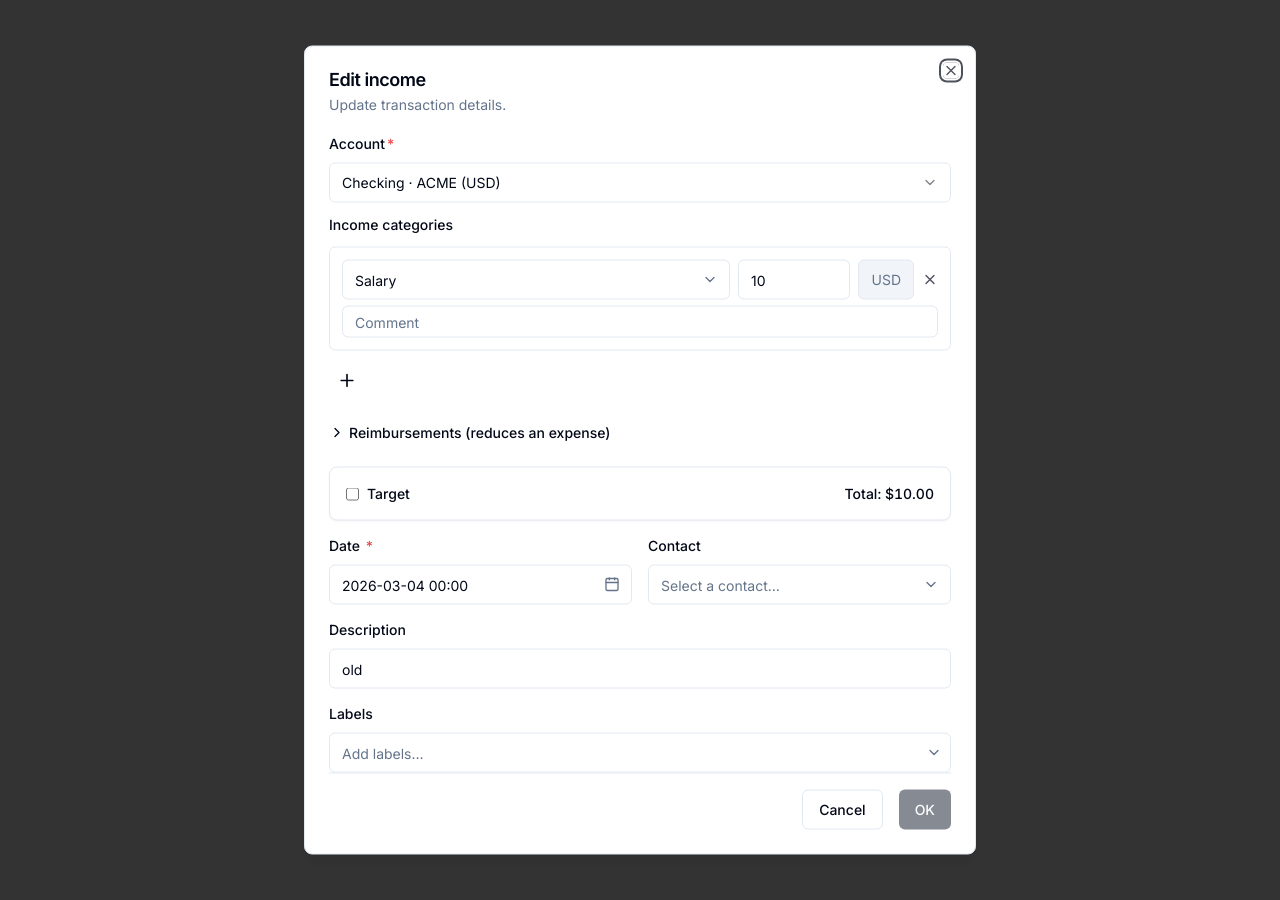
EditTransactionDialog › falls back to the banner when allocation/total field errors have no inline target
The width and height of the screenshot is (1280, 900).
Replace the text in the number field named "Amount" with "25" at (794, 280), box [738,260,850,300]
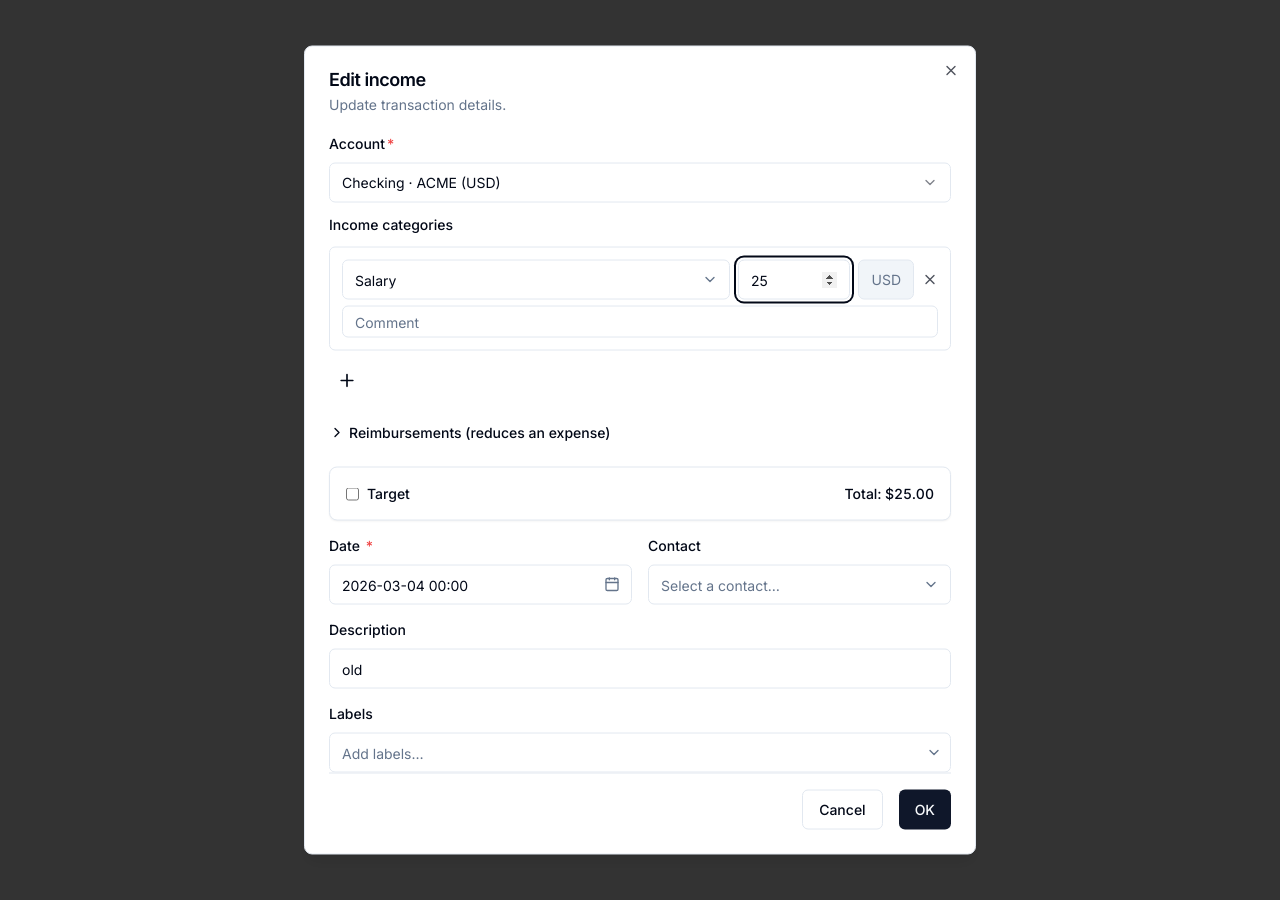
Click the button "OK" at (925, 810), box [899,790,951,830]
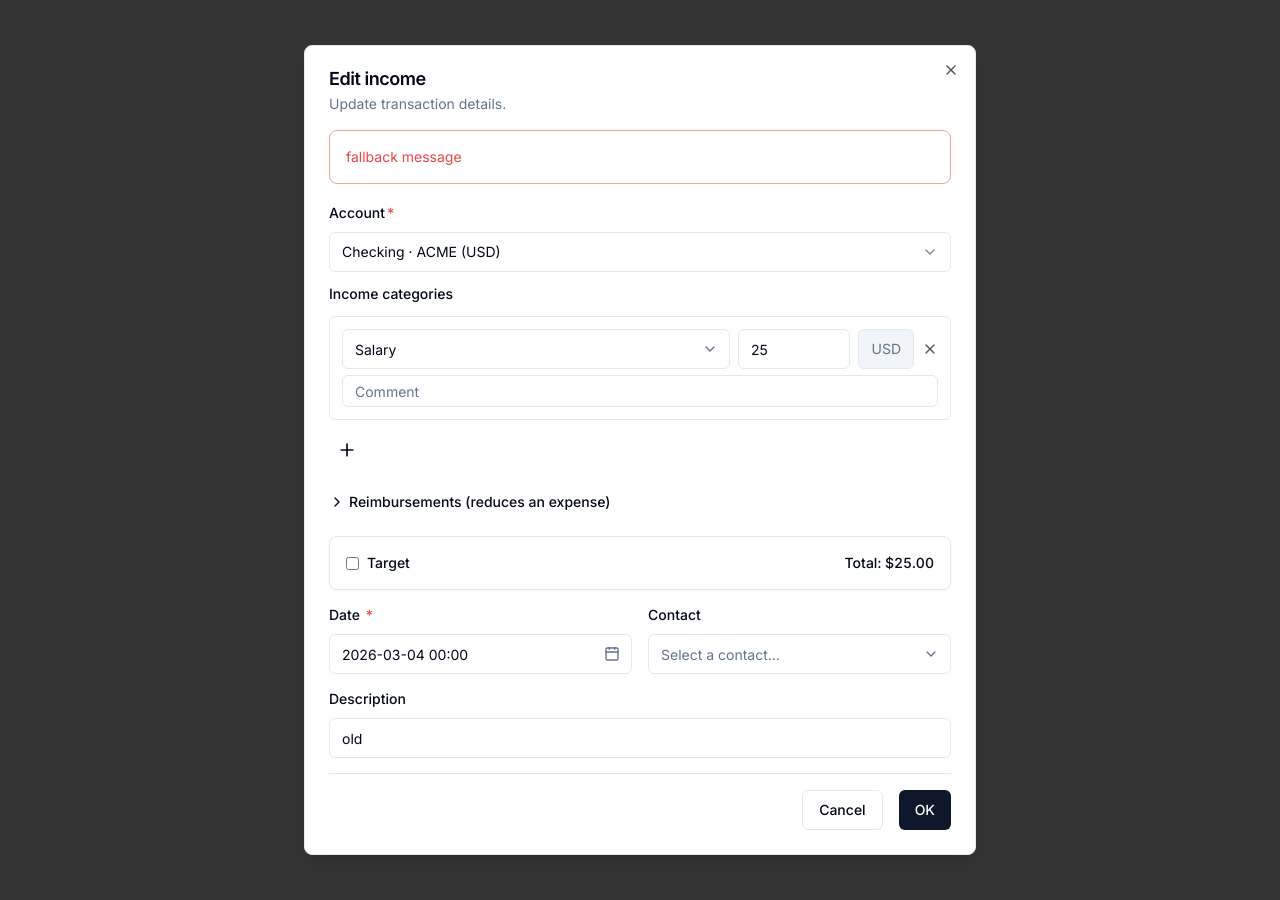
Expected: the message reads "fallback message", [346,148,462,165]
